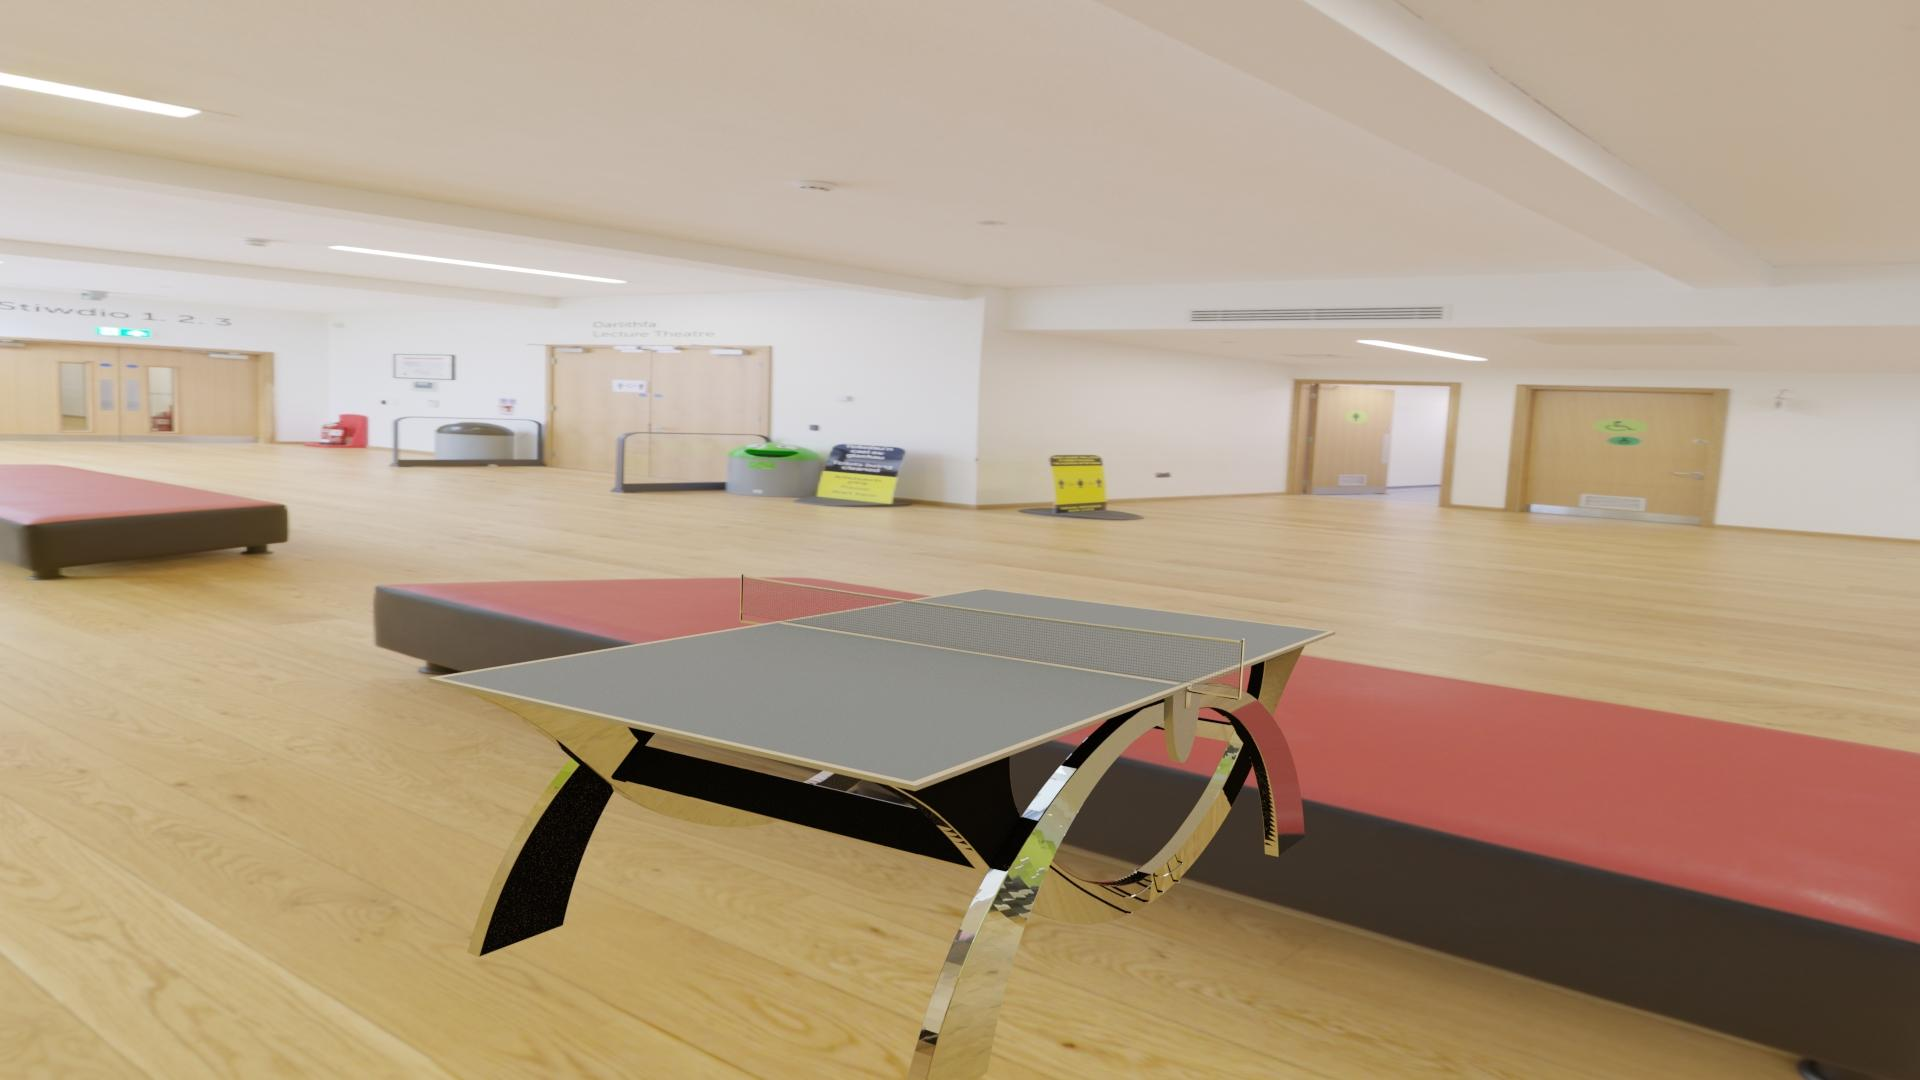table: (440, 589, 1328, 782)
